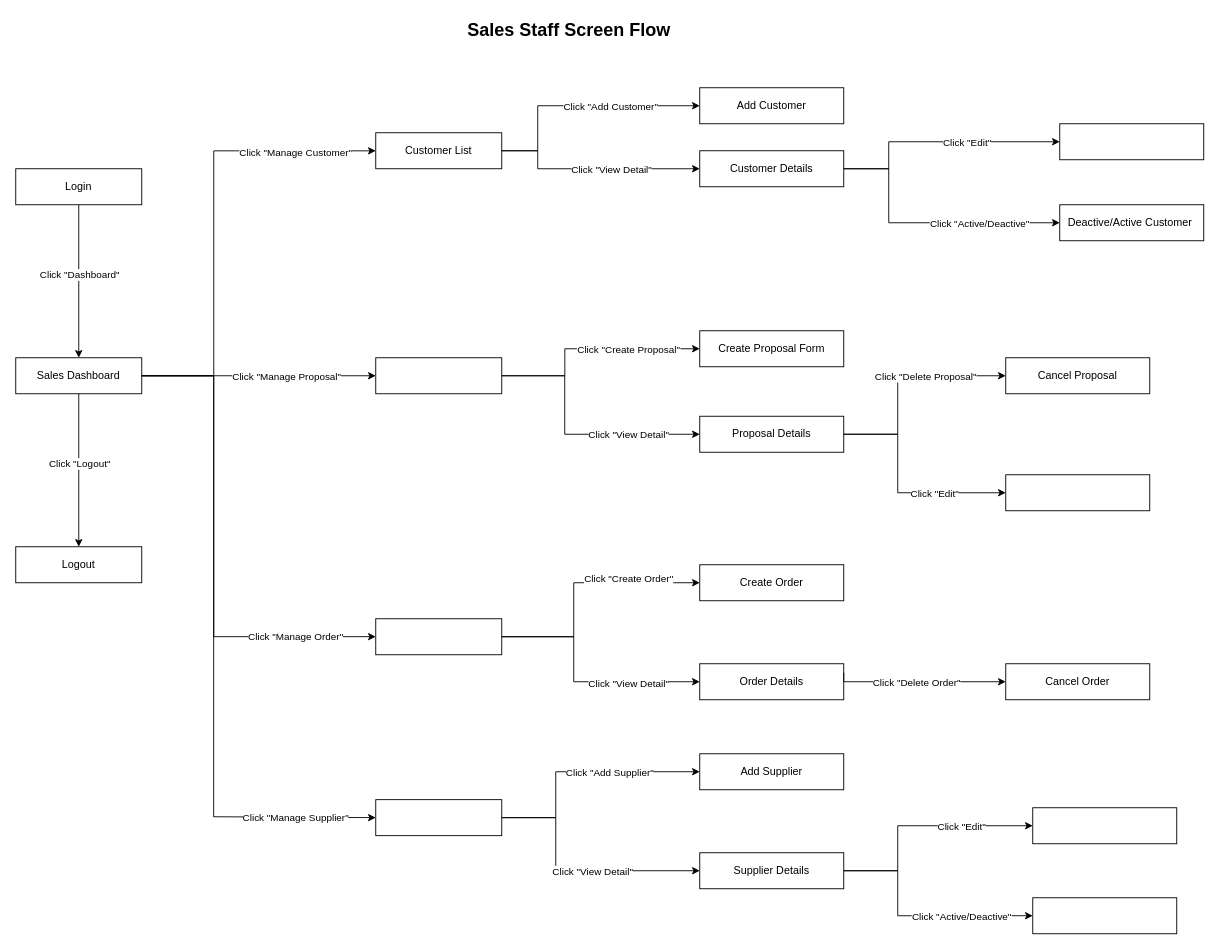
The diagram is 1220 pixels wide and 950 high, and some of its shapes have lost their labels. Here are the shapes that lost their labels. From the top down, the box of each, then its label:
(1059, 123, 1204, 160): Update Customer
(375, 357, 502, 394): Proposal List
(1005, 474, 1150, 511): Update Proposal
(375, 618, 502, 655): Sales Order List
(375, 799, 502, 836): Supplier List
(1032, 807, 1177, 844): Update Supplier
(1032, 897, 1177, 934): Deactive/Active Suppiler
